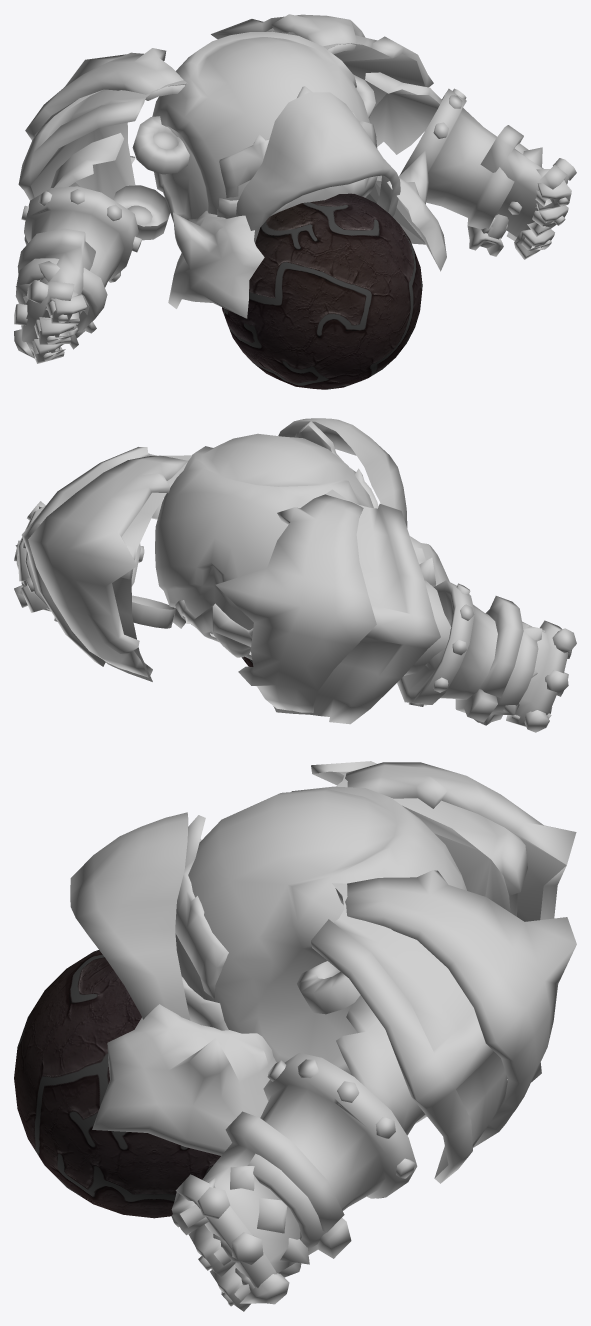
Rendered from Born (23).obj.
3 views of the same model, one above another, from view 1: azimuth 30°, elevation 25°; view 2: azimuth 150°, elevation 25°; view 3: azimuth 270°, elevation 25° (orthographic). The views are drawn at different scales.
Parts seen in each view (by area): view 1: ironreaver01; view 2: ironreaver01; view 3: ironreaver01.
Part boxes in pixels (x1=…): ironreaver01: x1=14, y1=14, x2=576, y2=389; ironreaver01: x1=14, y1=418, x2=576, y2=732; ironreaver01: x1=14, y1=761, x2=576, y2=1311.
Bounding box in the file's own units: 2.04 × 1.03 × 1.31.
